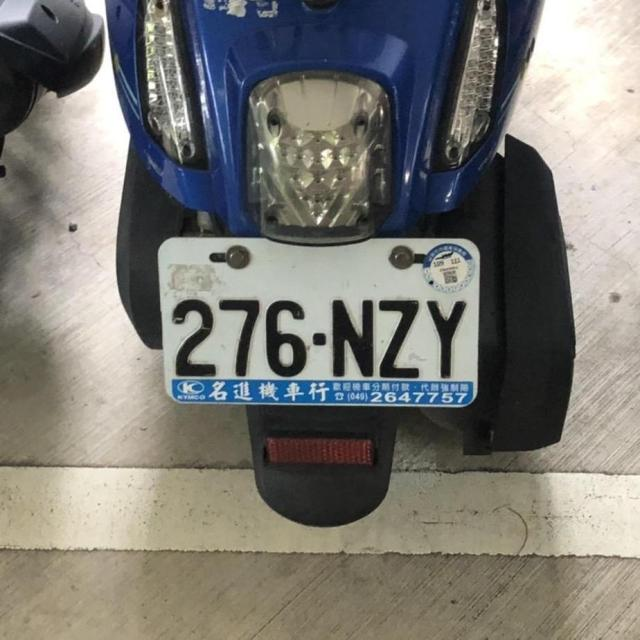W: (147, 223, 494, 423)
